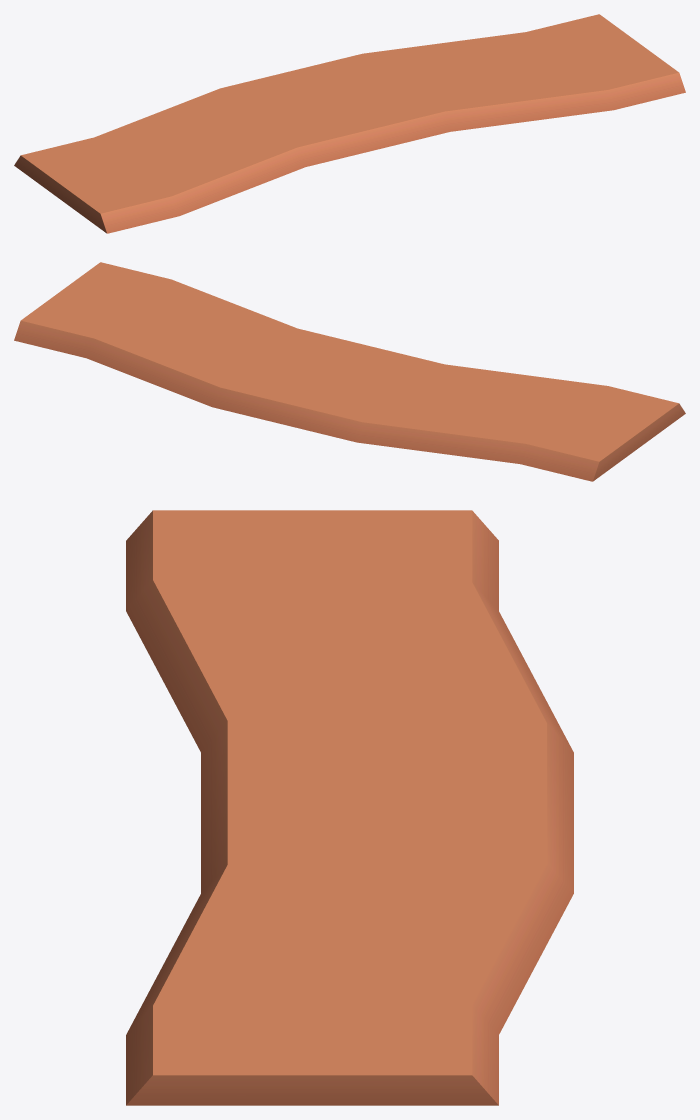
File: kenney-hexagon-path-straight.glb
3 renders of one model, top to bottom at view 1: azimuth 30°, elevation 25°; view 2: azimuth 150°, elevation 25°; view 3: azimuth 270°, elevation 25°, orthographic. The views are drawn at different scales.
Visible parts, largest first — view 1: path_straight; view 2: path_straight; view 3: path_straight.
Boxes of the visible parts, x1,y1,x2,y2 form: path_straight: (14,14,685,233); path_straight: (14,262,685,481); path_straight: (126,510,573,1105).
Size of the model in its own units: 1 by 0.025 by 0.335.
Materials: 1 (1 with a texture image).
